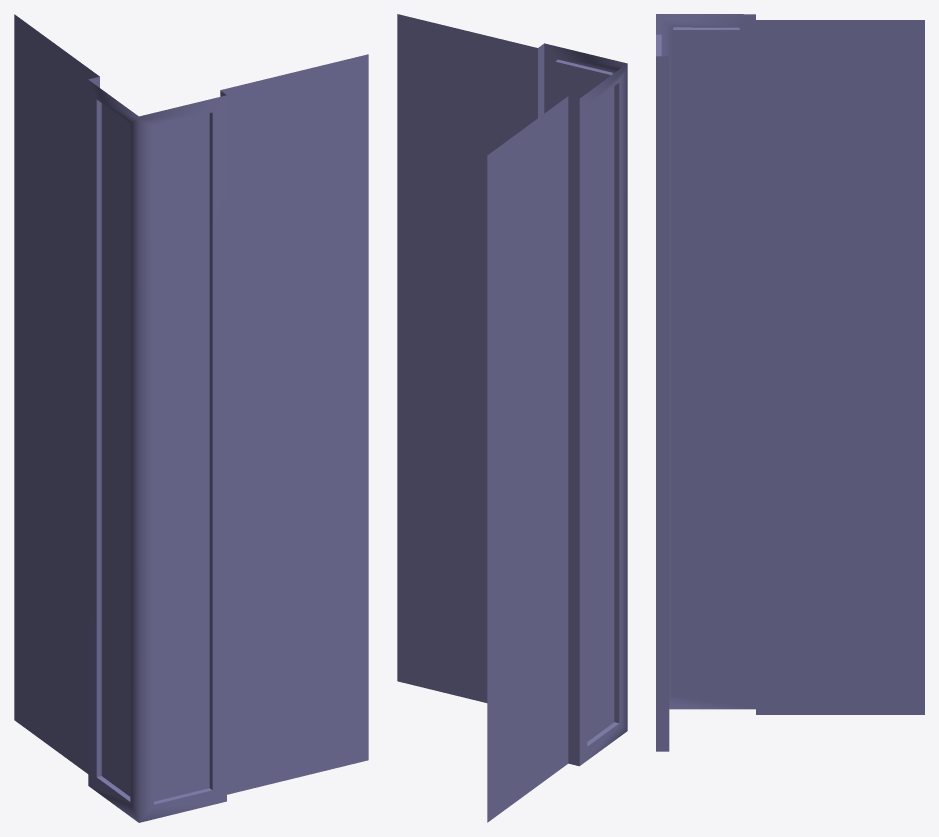
Rendered from M_A_wall_corner_02.fbx.
The picture shows the model from 3 angles, left to right: view 1: azimuth 30°, elevation 25°; view 2: azimuth 150°, elevation 25°; view 3: azimuth 270°, elevation 25°; orthographic projection. The views are drawn at different scales.
Visible parts, largest first — view 1: M_A_wall_corner_02; view 2: M_A_wall_corner_02; view 3: M_A_wall_corner_02.
Boxes of the visible parts, x1,y1,x2,y2 form: M_A_wall_corner_02: (14,14,368,822); M_A_wall_corner_02: (397,14,627,822); M_A_wall_corner_02: (656,14,924,751).
Size of the model in its own units: 105 by 300 by 105.
